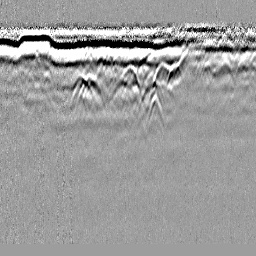cavity: (108, 64, 142, 103)
